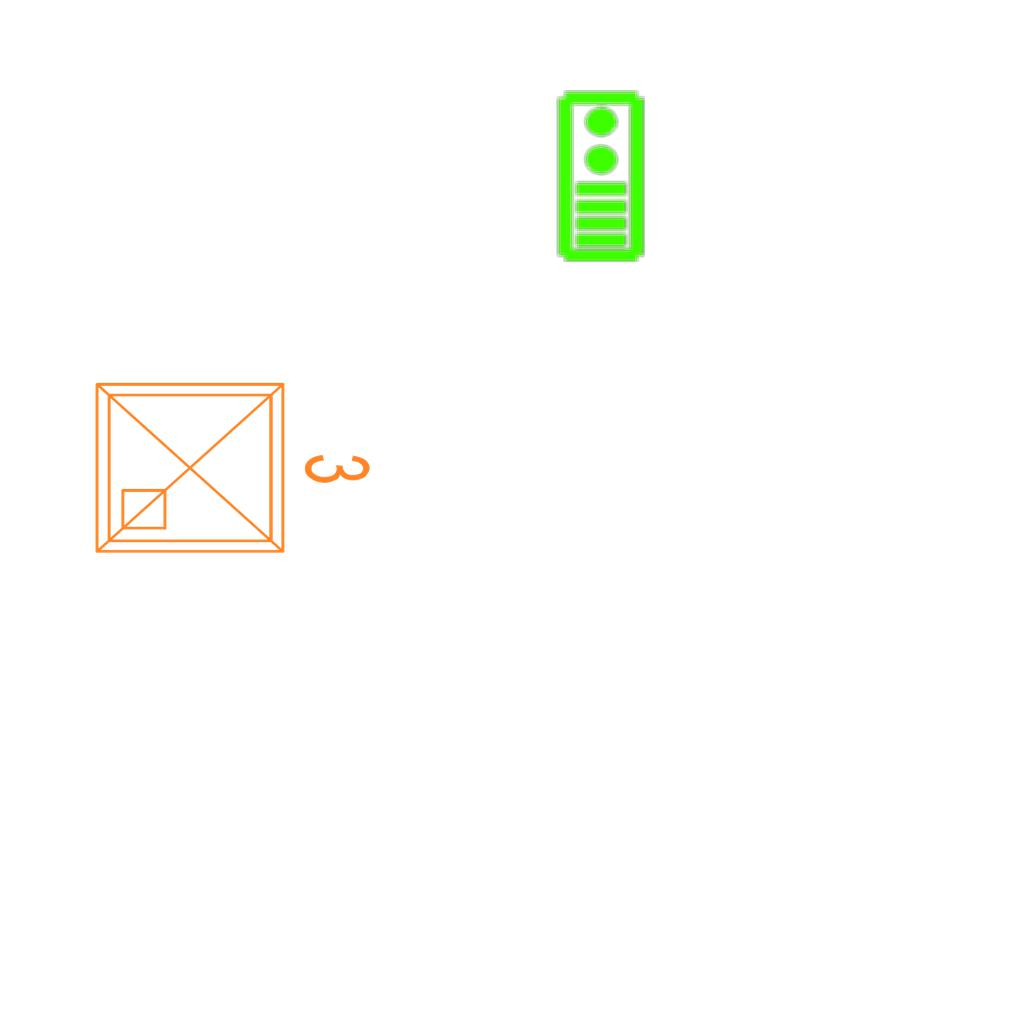Einbaudownlights_LED_Konferenzraeume: (81, 360, 381, 568)
Gegensprechanlage_mit_Video: (552, 88, 647, 264)
